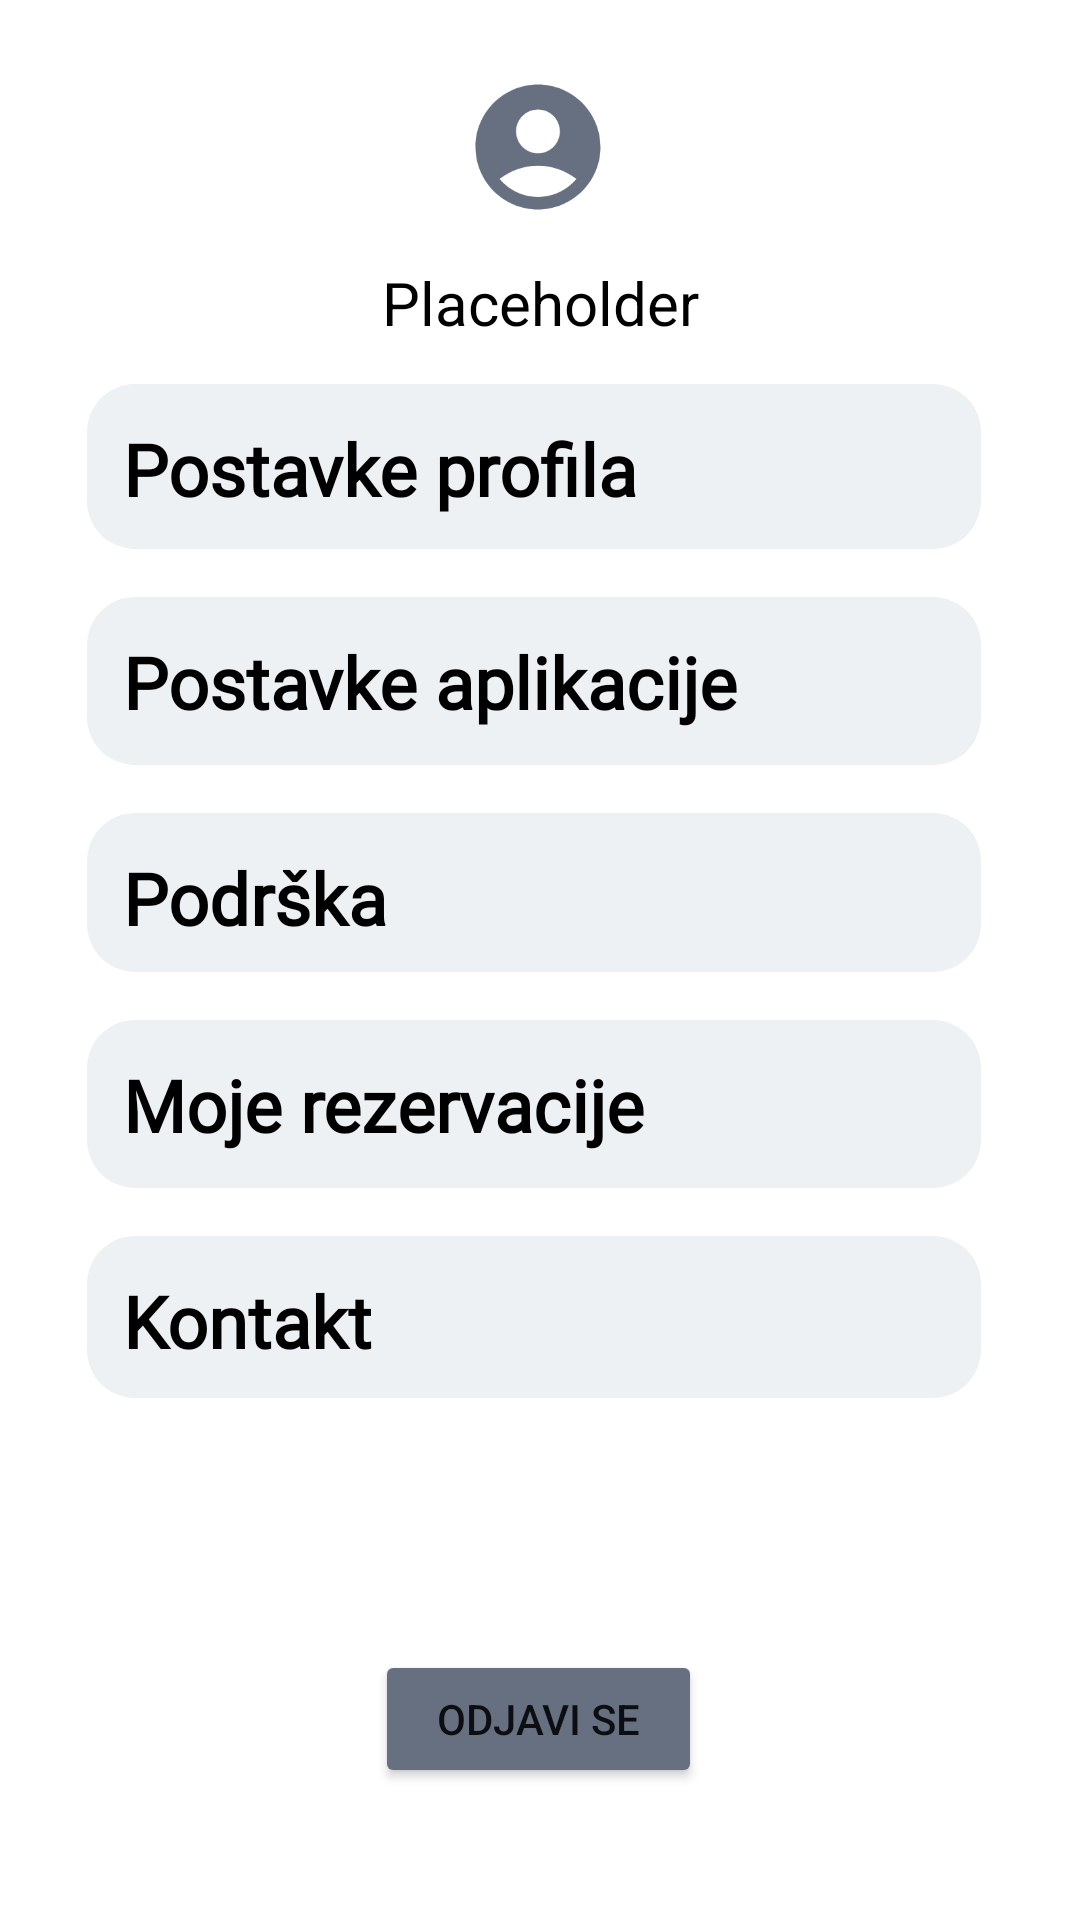

Screen size 1080*1920. Icon name, then its box in pixels as region(x1, y1, x2, y2):
account circle: region(475, 84, 601, 210)
